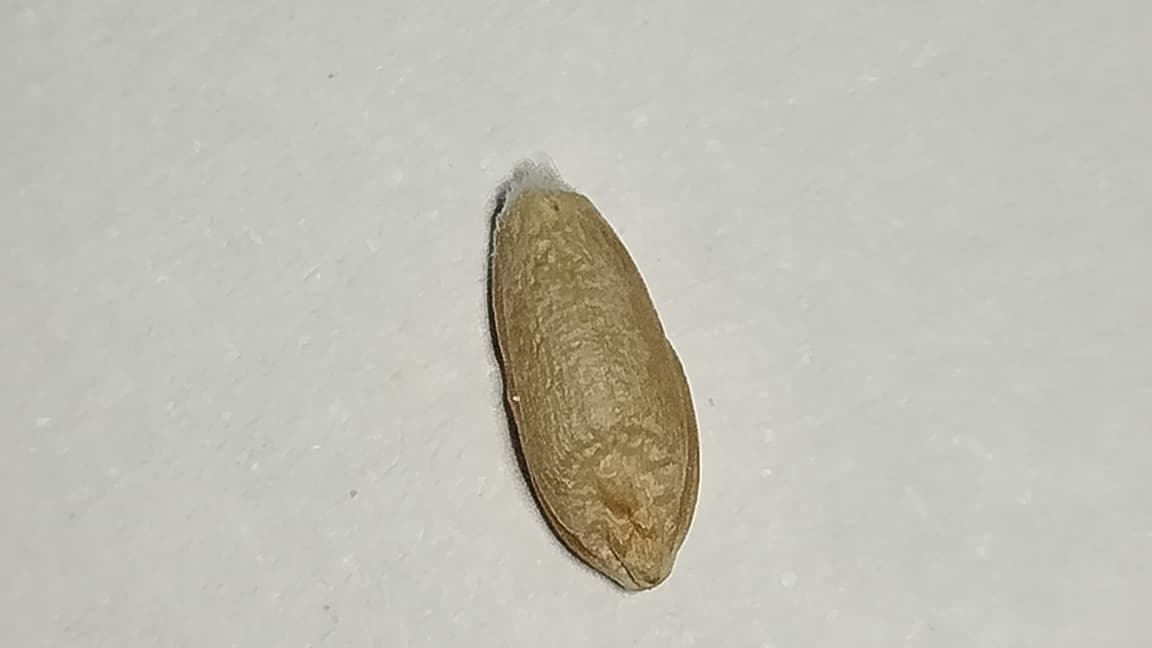healthy: (485, 186, 701, 589)
